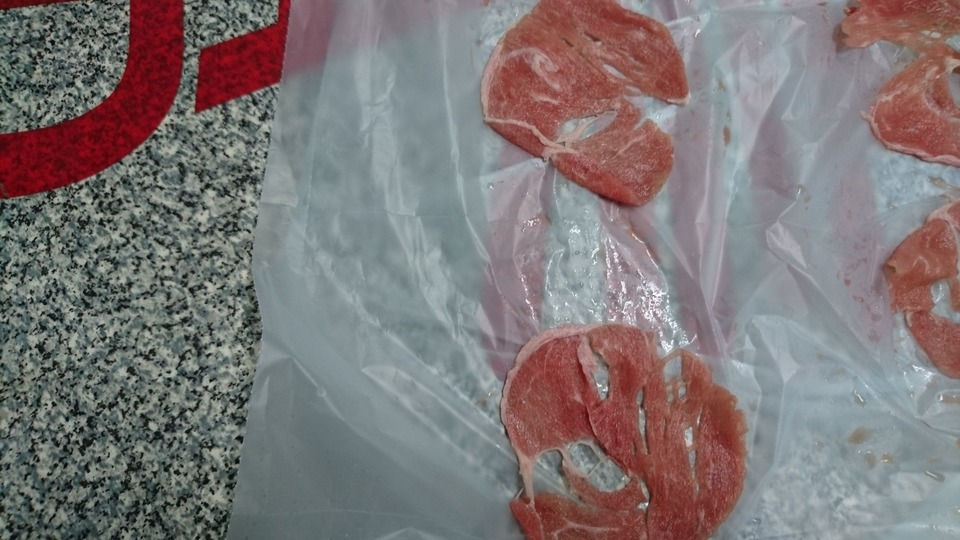restructured meat: (487, 306, 749, 540), (470, 8, 710, 230), (840, 2, 949, 178), (886, 201, 958, 368)
